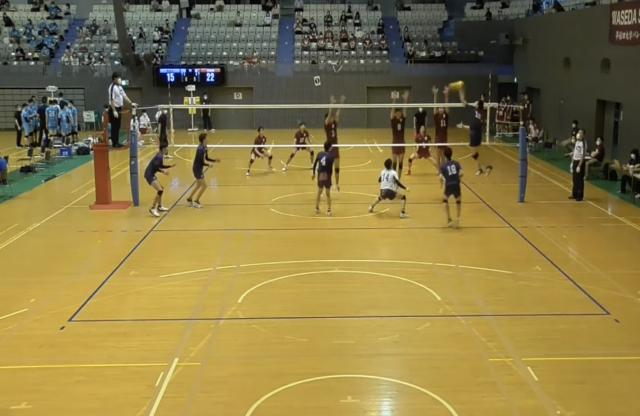spike: (453, 78, 493, 184)
